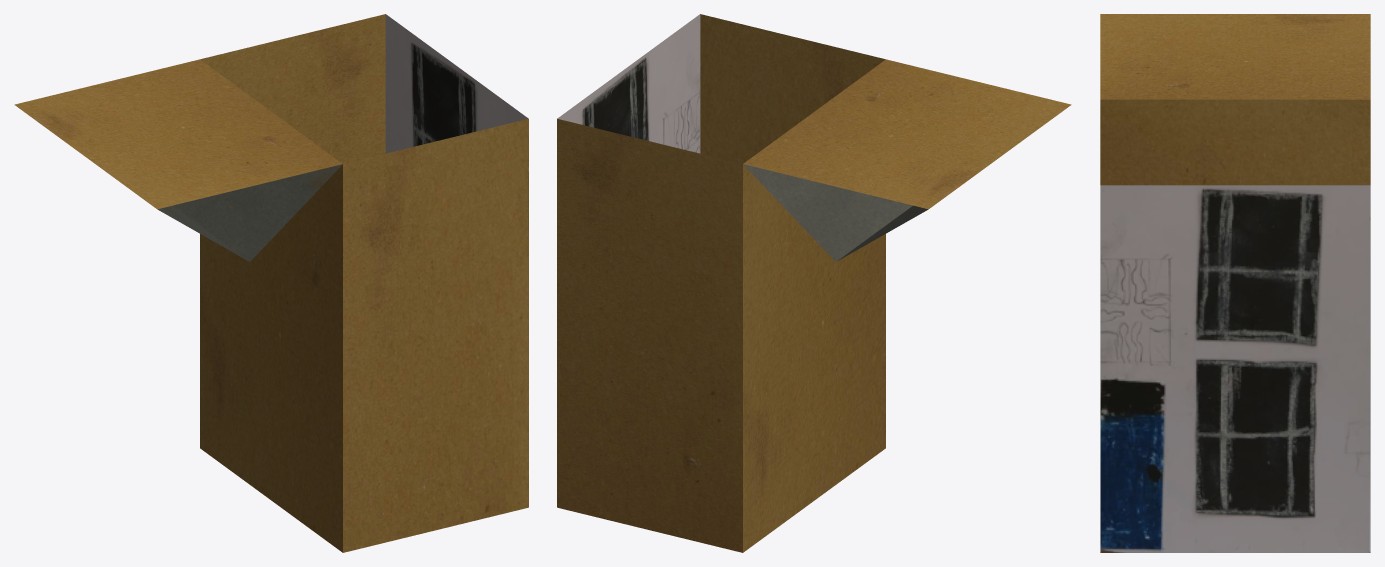
The picture shows the model from 3 angles, left to right: view 1: azimuth 30°, elevation 25°; view 2: azimuth 150°, elevation 25°; view 3: azimuth 270°, elevation 25°; orthographic projection. The views are drawn at different scales.
Parts seen in each view (by area): view 1: Cube, Cube.002, Cube.003; view 2: Cube, Cube.002, Cube.003; view 3: Cube, Cube.003, Cube.002.
Boxes of the visible parts, box(x1,y1,x2,y2) form: Cube: box(200, 118, 528, 552); Cube.002: box(14, 59, 342, 261); Cube.003: box(200, 14, 528, 163); Cube: box(557, 118, 885, 552); Cube.002: box(743, 59, 1071, 261); Cube.003: box(557, 14, 885, 163); Cube: box(1100, 185, 1370, 552); Cube.003: box(1100, 99, 1370, 185); Cube.002: box(1100, 14, 1370, 99).
Size of the model in its own units: 15 by 15 by 10.
1 material, 1 textured.
